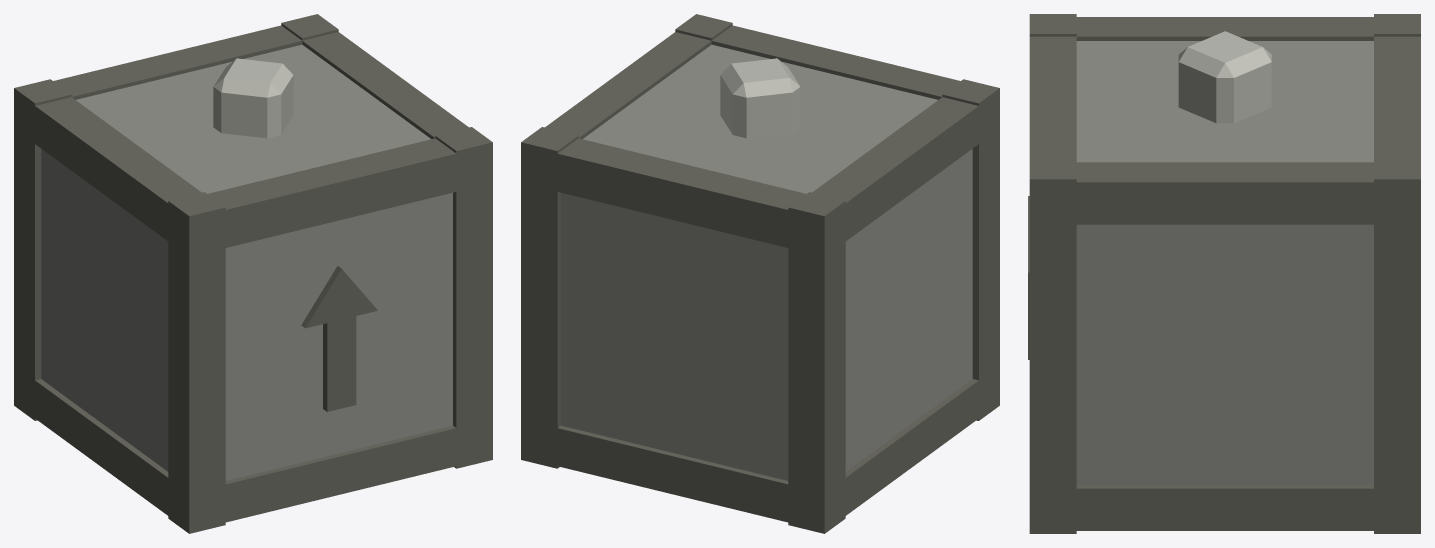
Rendered from StoneLootCrate.fbx.
3 views of the same model, side by side, from view 1: azimuth 30°, elevation 25°; view 2: azimuth 150°, elevation 25°; view 3: azimuth 270°, elevation 25° (orthographic). The views are drawn at different scales.
Parts seen in each view (by area): view 1: StoneLootCrate; view 2: StoneLootCrate; view 3: StoneLootCrate.
Boxes of the visible parts, x1,y1,x2,y2 form: StoneLootCrate: [14, 14, 492, 533]; StoneLootCrate: [521, 14, 999, 533]; StoneLootCrate: [1028, 14, 1420, 533].
Size of the model in its own units: 2.5 by 2.85 by 2.51.
Materials: 1 (1 with a texture image).
